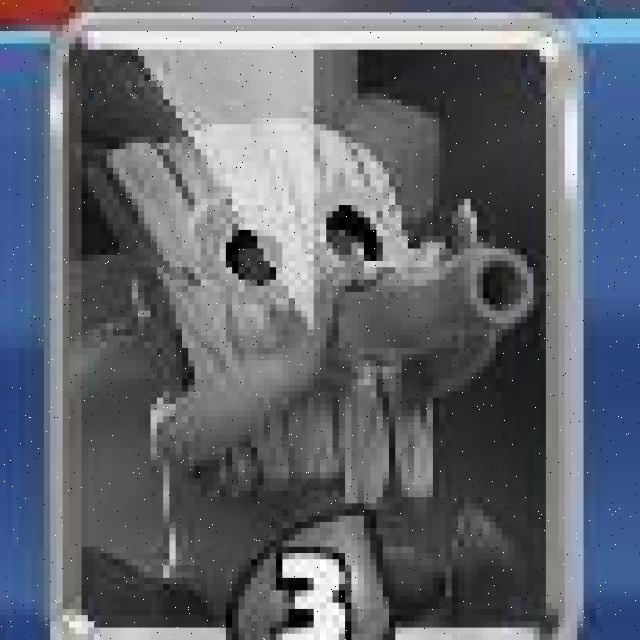Dart_Goblin: (37, 3, 584, 640)
